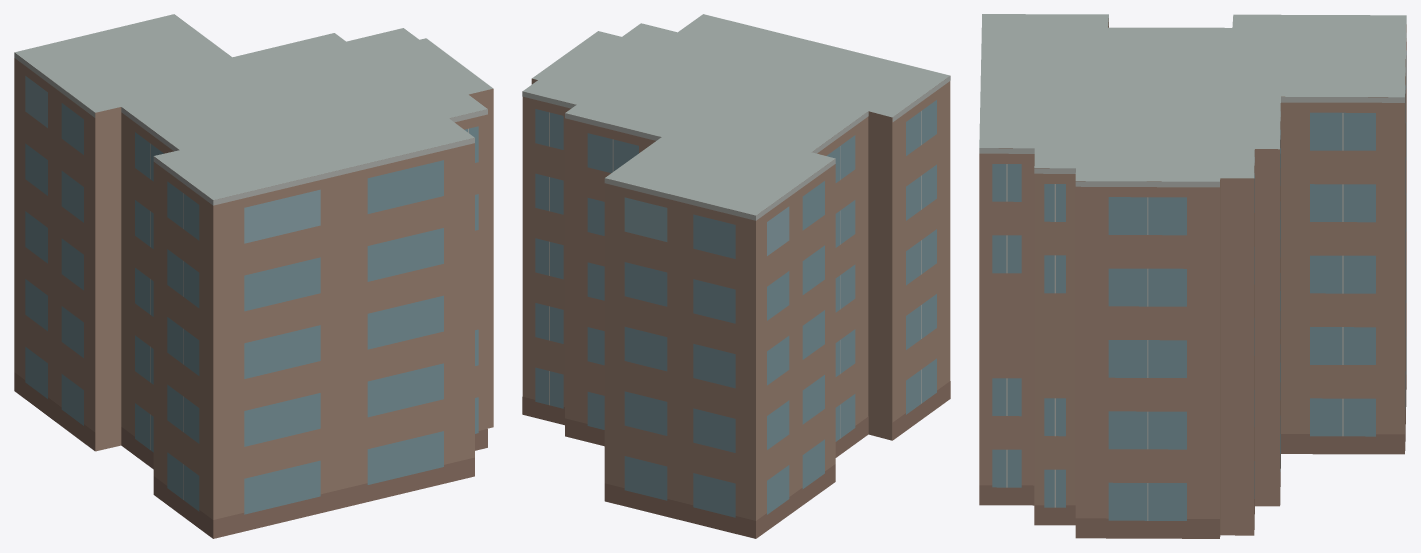
Rendered from survey-upis-32872027.glb.
The picture shows the model from 3 angles, left to right: view 1: azimuth 30°, elevation 25°; view 2: azimuth 150°, elevation 25°; view 3: azimuth 270°, elevation 25°; orthographic projection. The views are drawn at different scales.
Parts seen in each view (by area): view 1: survey-upis-32872027.tmp; view 2: survey-upis-32872027.tmp; view 3: survey-upis-32872027.tmp.
Boxes of the visible parts, x1,y1,x2,y2 form: survey-upis-32872027.tmp: (14,14,493,538); survey-upis-32872027.tmp: (522,14,950,538); survey-upis-32872027.tmp: (979,14,1406,538).
Bounding box in the file's own units: 15.37 × 15.25 × 16.55.
